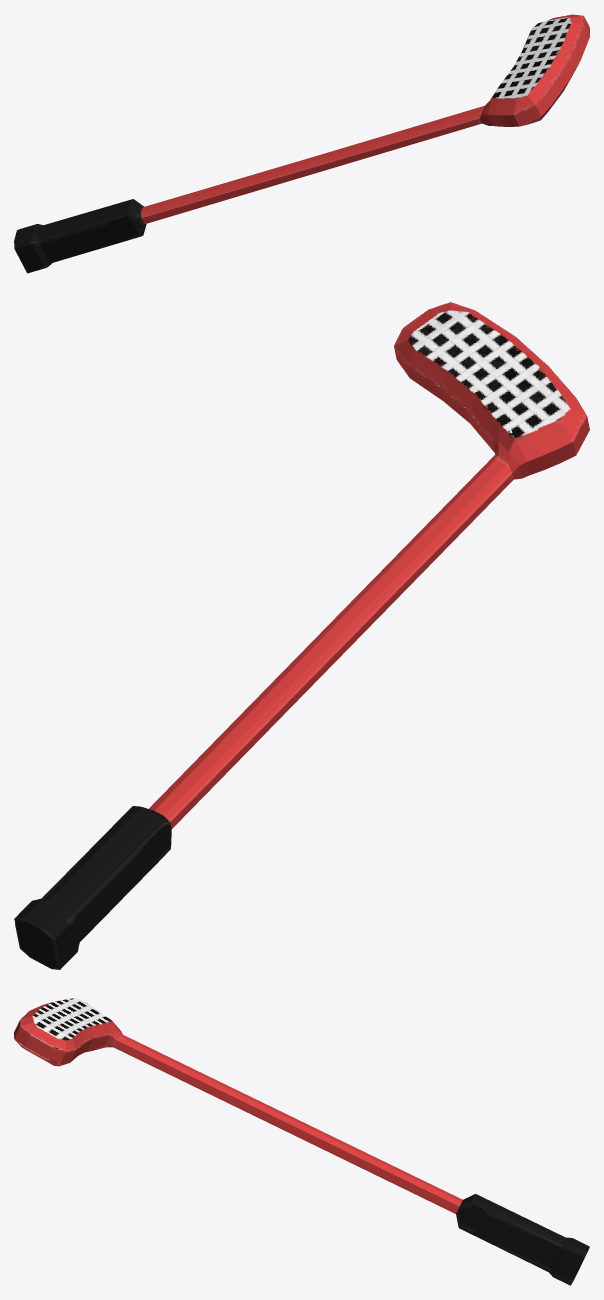
Rendered from FloorballStickAnimated_Red.fbx.
The picture shows the model from 3 angles, top to bottom: view 1: azimuth 90°, elevation 25°; view 2: azimuth 150°, elevation 25°; view 3: azimuth 270°, elevation 25°; orthographic projection. The views are drawn at different scales.
Parts seen in each view (by area): view 1: floorball stick; view 2: floorball stick; view 3: floorball stick.
Boxes of the visible parts, x1,y1,x2,y2 form: floorball stick: (14, 14, 589, 273); floorball stick: (14, 302, 589, 969); floorball stick: (14, 998, 589, 1285).
Bounding box in the file's own units: 40.65 × 71.35 × 145.
